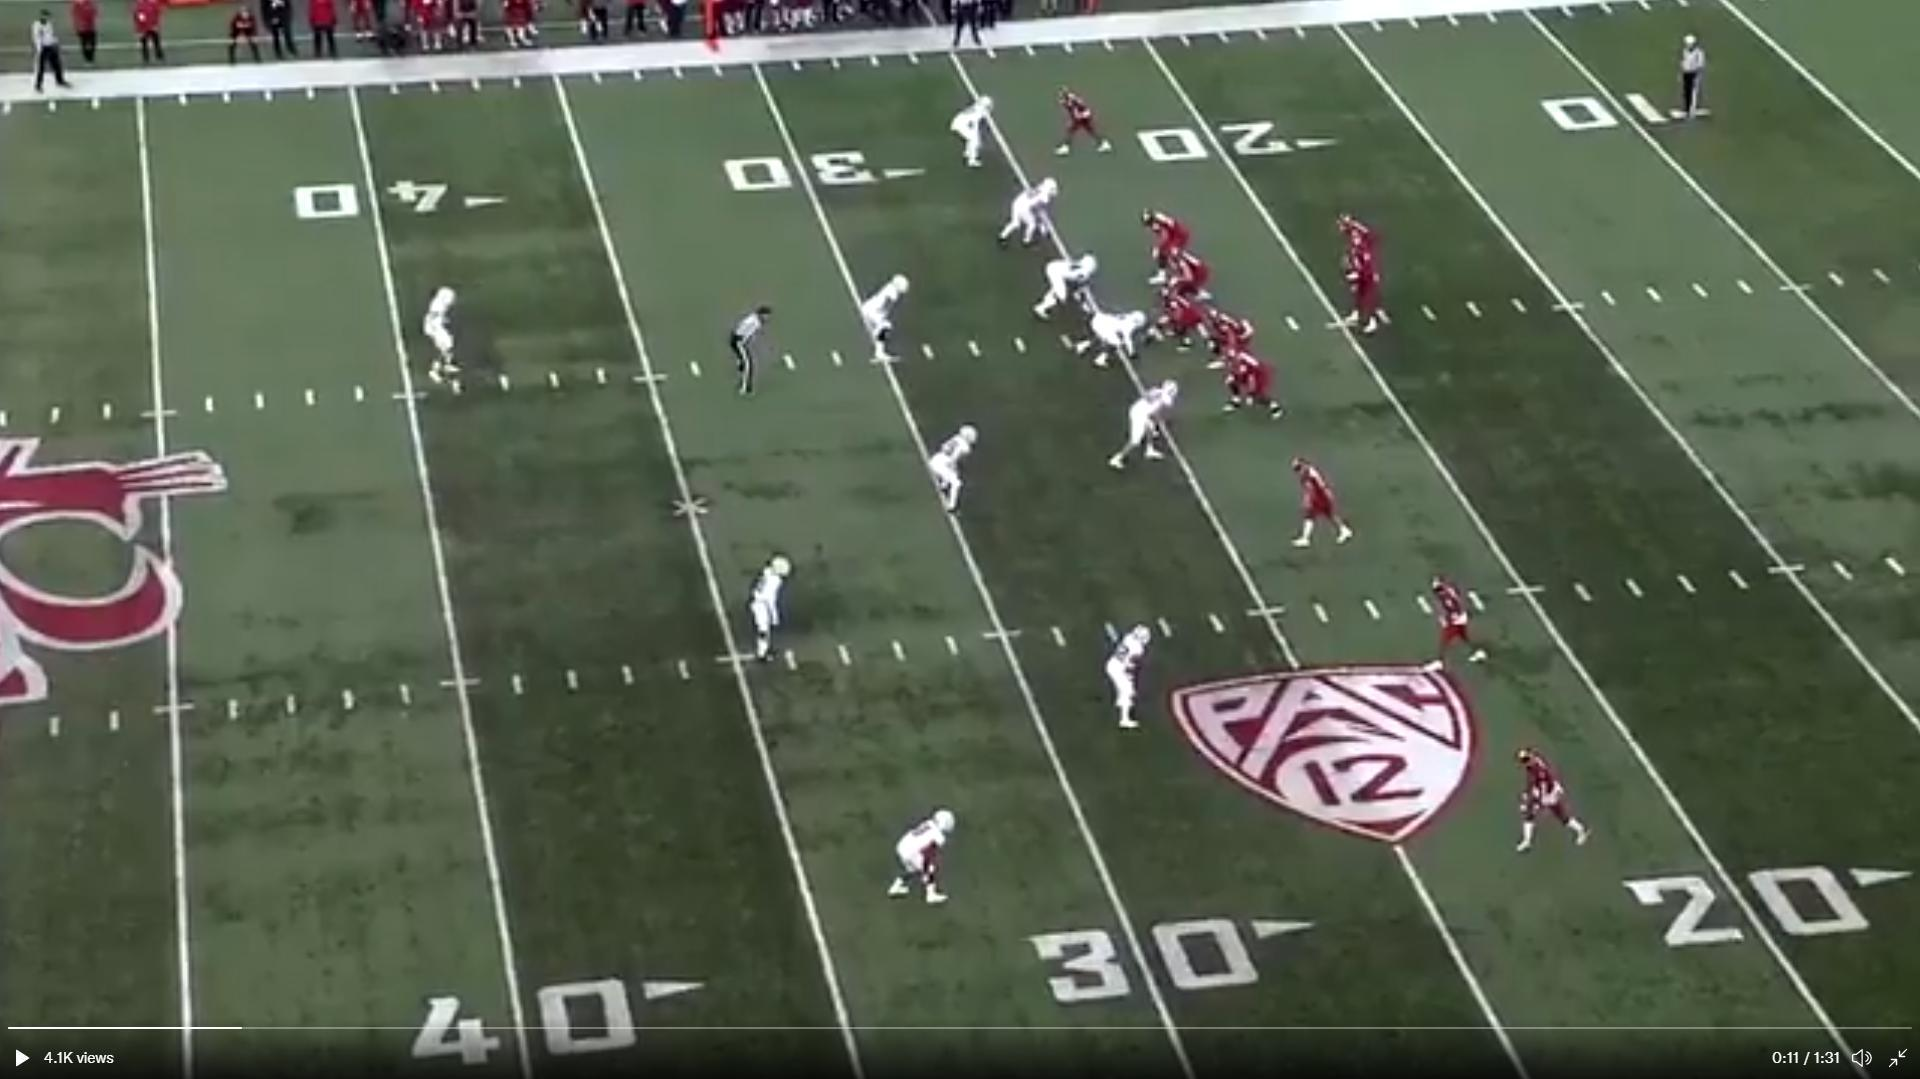player: (1514, 737, 1598, 859), (883, 804, 957, 911), (1112, 376, 1187, 473), (1426, 570, 1496, 673), (1286, 452, 1355, 555), (741, 552, 795, 669), (1105, 622, 1156, 732), (929, 423, 984, 522), (1000, 174, 1066, 253), (1067, 312, 1149, 375), (1221, 345, 1287, 423), (1033, 254, 1105, 324), (859, 272, 912, 367), (421, 282, 468, 386), (1344, 242, 1393, 336), (1055, 84, 1114, 160), (1156, 284, 1218, 353), (1206, 307, 1263, 378), (949, 93, 999, 172), (1142, 209, 1204, 268), (1159, 245, 1217, 307), (1337, 211, 1380, 293)
ref: (729, 300, 773, 401), (25, 12, 71, 99), (1673, 32, 1711, 125), (948, 0, 987, 51)
